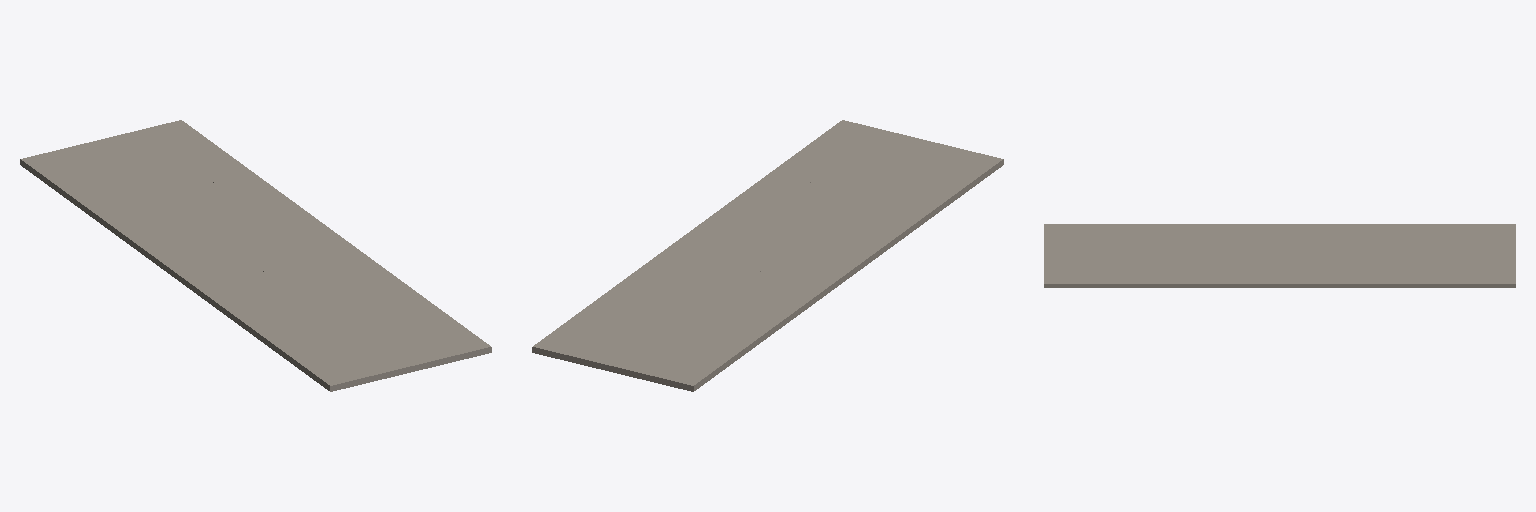
robot.urdf — charging_pile:
<?xml version="1.0" encoding="utf-8"?>
<!-- This URDF was automatically created by SolidWorks to URDF Exporter! Originally created by [author] ([email redacted]) 
     Commit Version: 1.5.1-0-g916b5db  Build Version: 1.5.7152.31018
     For more information, please see http://wiki.ros.org/sw_urdf_exporter -->
<robot
  name="charging_pile">
  <link
    name="base_link">
    <inertial>
      <origin
        xyz="0.00834301719257474 -1 0.0246225247758807"
        rpy="0 0 0" />
      <mass
        value="25.193" />
      <inertia
        ixx="2.09965605670833"
        ixy="-6.50594690425853E-17"
        ixz="5.94165212631198E-19"
        iyy="0.191225431708333"
        iyz="1.28369847145429E-16"
        izz="2.29040270833333" />
    </inertial>
    <visual>
      <origin
        xyz="0 0 0"
        rpy="0 0 0" />
      <geometry>
        <mesh
          filename="package://charging_pile/meshes/base_link.STL" />
      </geometry>
      <material
        name="">
        <color
          rgba="0.647058823529412 0.619607843137255 0.588235294117647 1" />
      </material>
    </visual>
    <collision>
      <origin
        xyz="0 0 0"
        rpy="0 0 0" />
      <geometry>
        <mesh
          filename="package://charging_pile/meshes/base_link.STL" />
      </geometry>
    </collision>
  </link>
</robot>

--- Render facts (derived) ---
Views: 3 orthographic renders of the robot side by side, from view 1: azimuth 30°, elevation 25°; view 2: azimuth 150°, elevation 25°; view 3: azimuth 270°, elevation 25°.
Robot: charging_pile — 1 links, 0 joints (none); root link base_link; default pose: every joint at zero.
Links seen in each view (by area): view 1: base_link; view 2: base_link; view 3: base_link.
Link boxes in pixels (left/top/right/bottom): base_link: left=20, top=120, right=491, bottom=391; base_link: left=532, top=120, right=1003, bottom=391; base_link: left=1044, top=224, right=1515, bottom=287.
Size in the robot's own frame: 0.3 by 1 by 0.011 metres.
Meshes: 1 distinct files referenced, 1 mesh visuals loaded (1 binary STL).